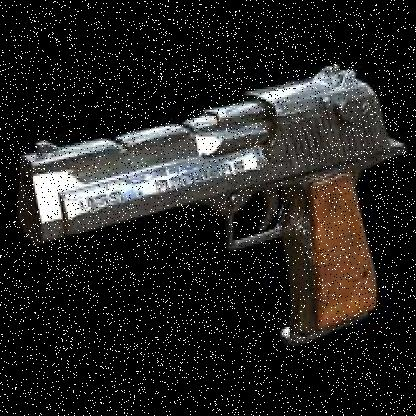pistol: (18, 50, 404, 342)
